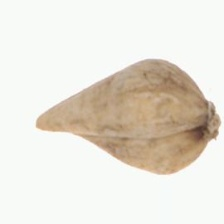L1: (198, 96, 221, 144), (35, 107, 59, 133)
L2: (34, 58, 221, 176)
